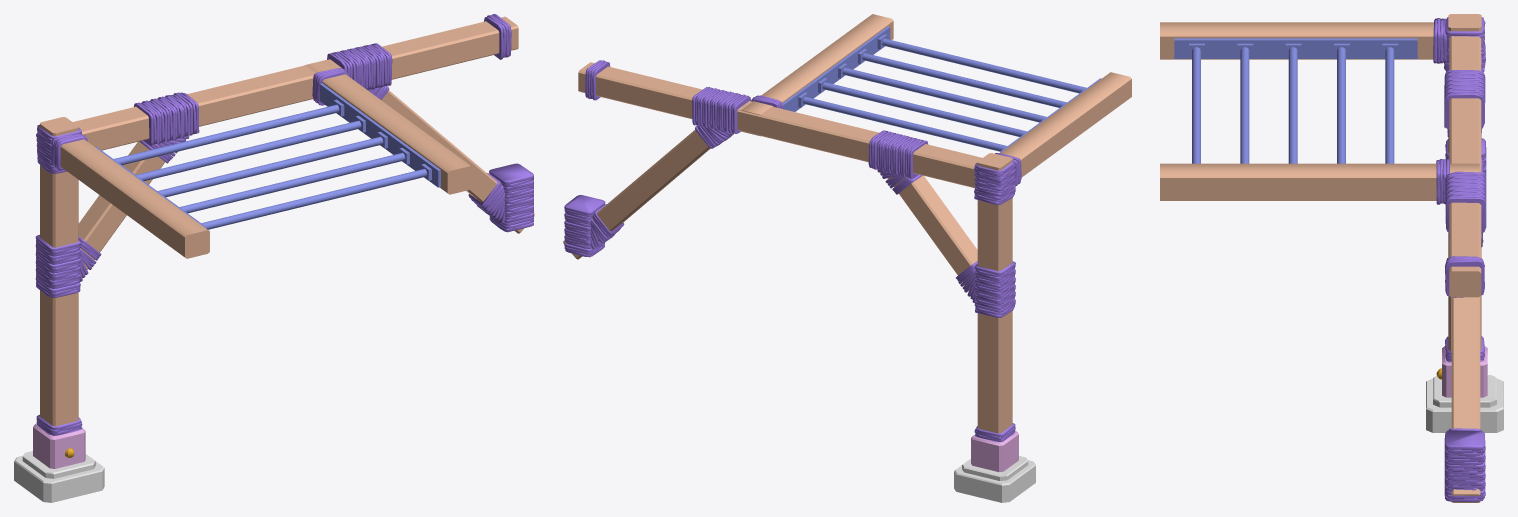
Rendered from Boss2_Platform_Right 1.fbx.
The picture shows the model from 3 angles, left to right: view 1: azimuth 30°, elevation 25°; view 2: azimuth 150°, elevation 25°; view 3: azimuth 270°, elevation 25°; orthographic projection. The views are drawn at different scales.
Visible parts, largest first — view 1: Wall_Pillar; view 2: Wall_Pillar; view 3: Wall_Pillar.
Boxes of the visible parts, x1,y1,x2,y2 form: Wall_Pillar: (14,14,534,502); Wall_Pillar: (563,14,1131,502); Wall_Pillar: (1160,14,1503,502).
Size of the model in its own units: 1997 by 1366 by 1076.
